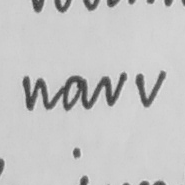a: (59, 73, 90, 112)
n: (20, 73, 52, 113)
v: (133, 69, 167, 110), (99, 68, 129, 109)
